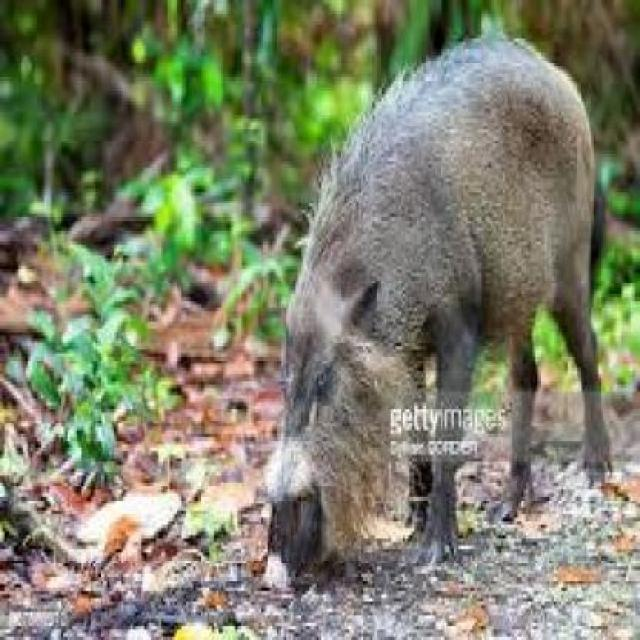wildboar: (258, 31, 612, 588)
